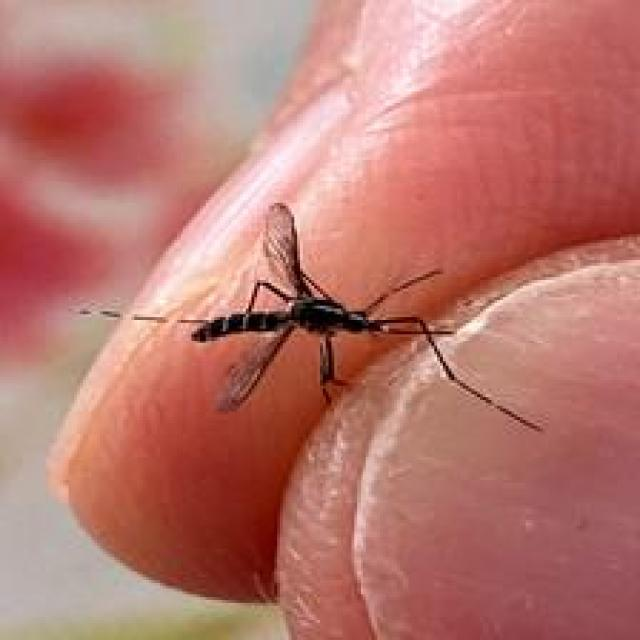Aedes albopictus: (173, 200, 544, 434)
